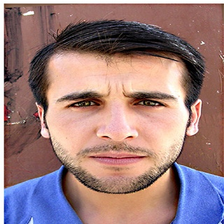no_mask: (37, 50, 201, 193)
